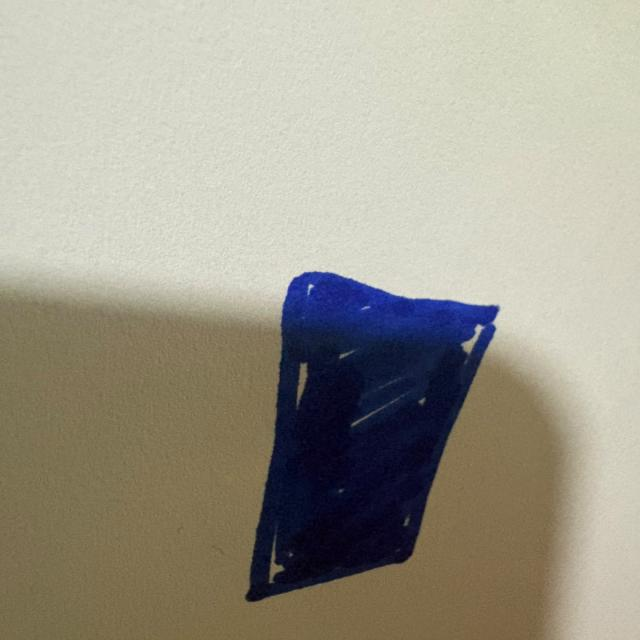Rectangle: (246, 272, 497, 600)
